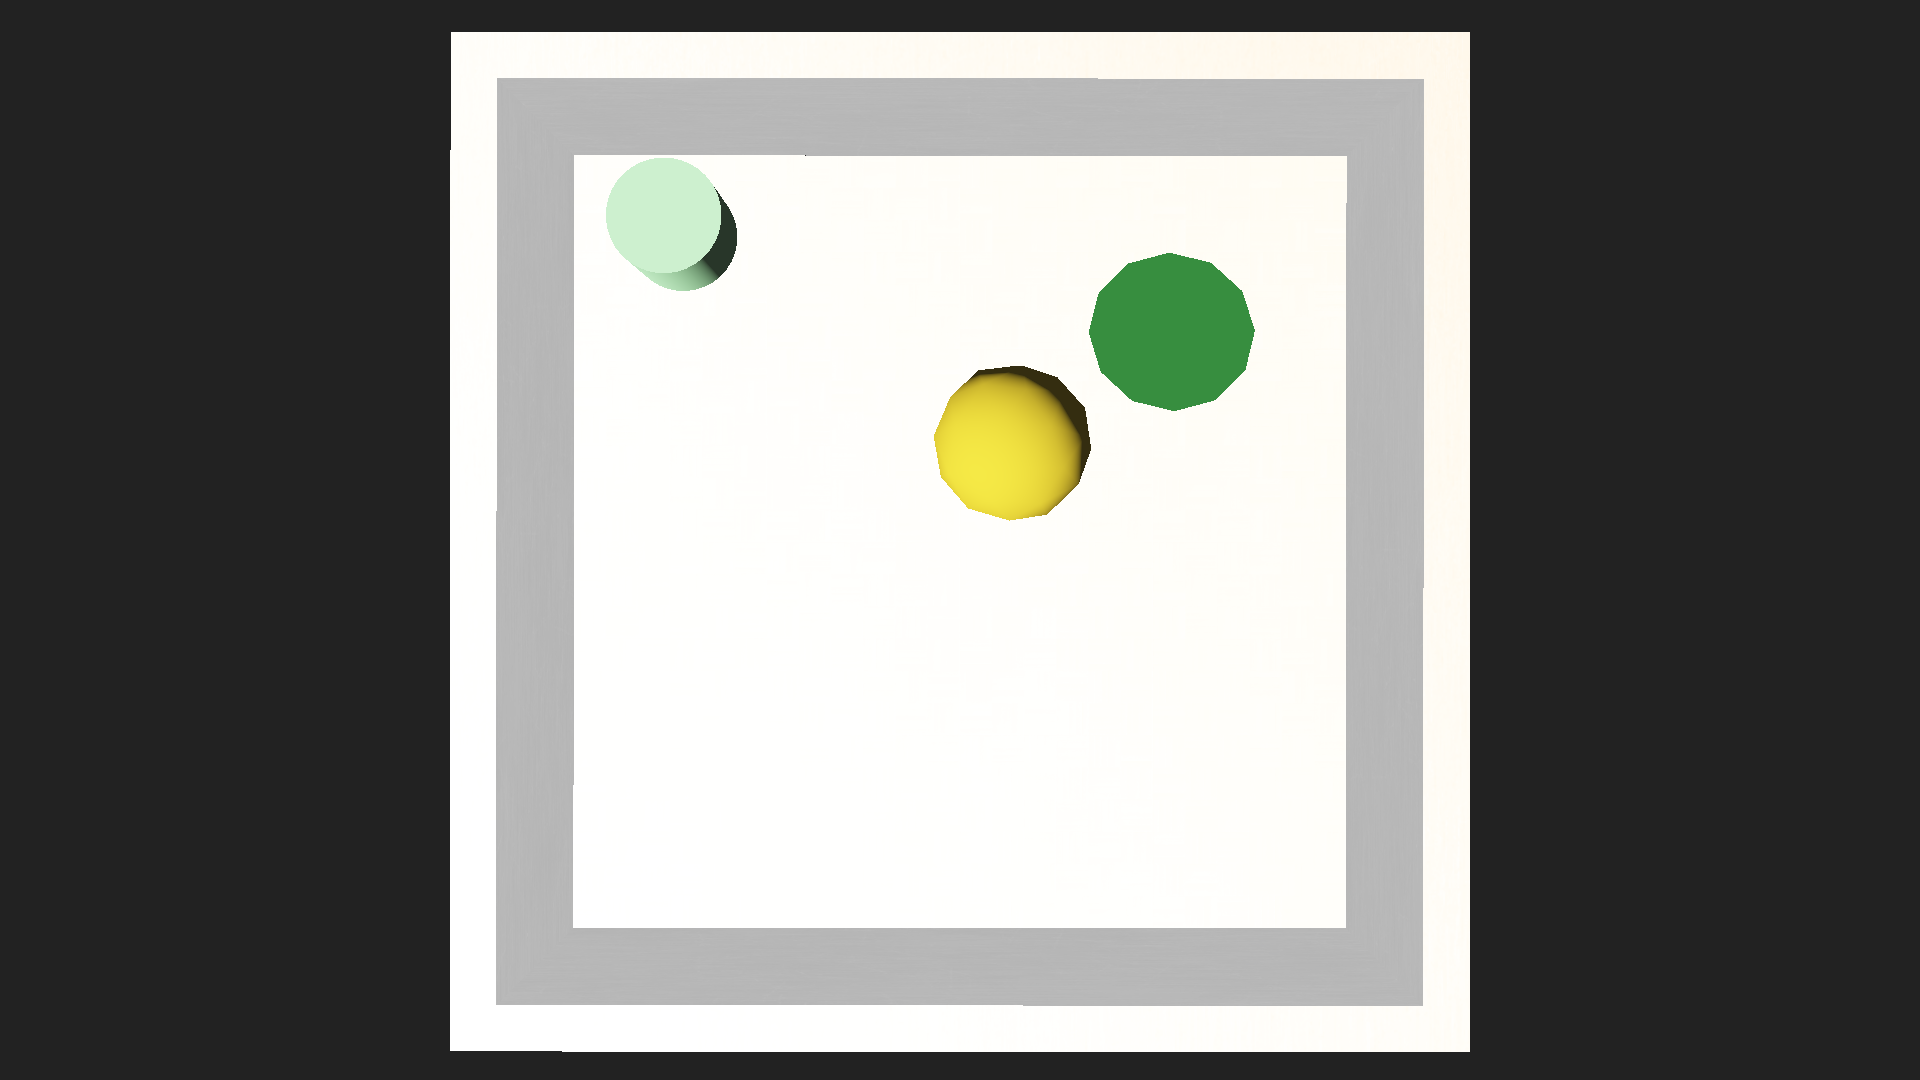cone: (605, 157, 737, 290)
cylinder: (1085, 255, 1249, 448)
sphere: (932, 363, 1092, 522)
